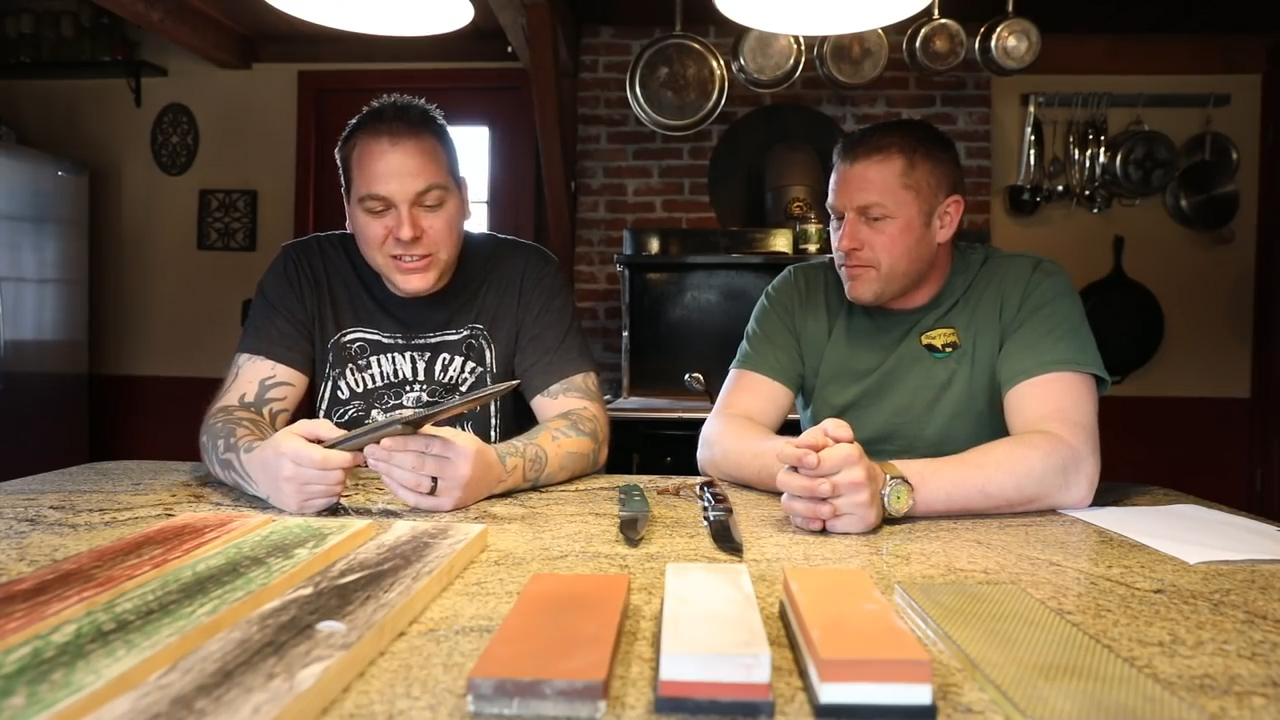knife: (278, 357, 546, 484)
